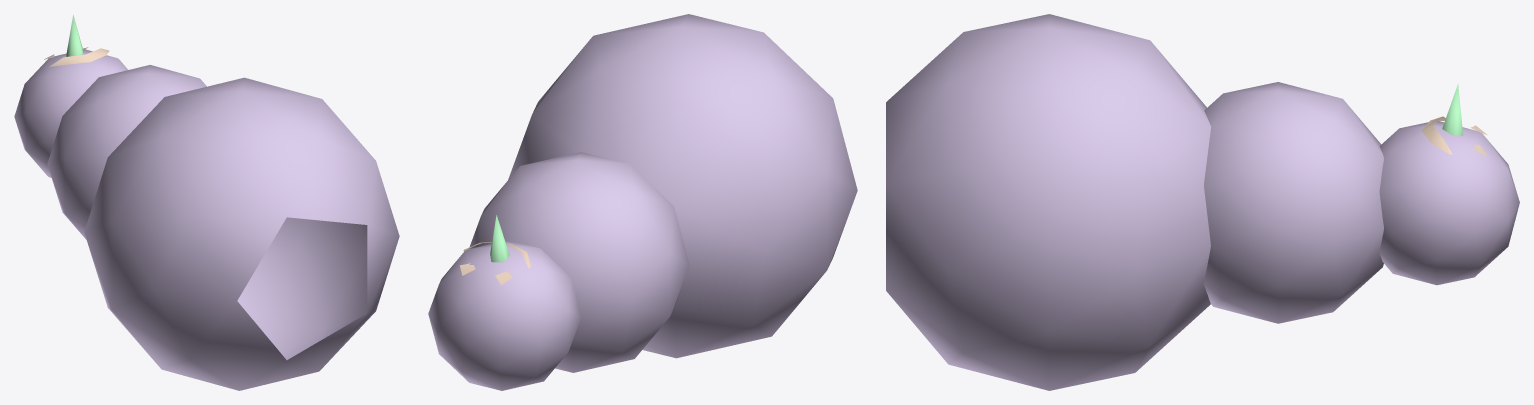
The picture shows the model from 3 angles, left to right: view 1: azimuth 30°, elevation 25°; view 2: azimuth 150°, elevation 25°; view 3: azimuth 270°, elevation 25°; orthographic projection. The views are drawn at different scales.
Visible parts, largest first — view 1: Object68; view 2: Object68; view 3: Object68.
Boxes of the visible parts, bbox=[...] form: Object68: bbox=[14, 15, 399, 390]; Object68: bbox=[428, 14, 857, 390]; Object68: bbox=[886, 14, 1519, 390].
Size of the model in its own units: 9421 by 9906 by 16351.
